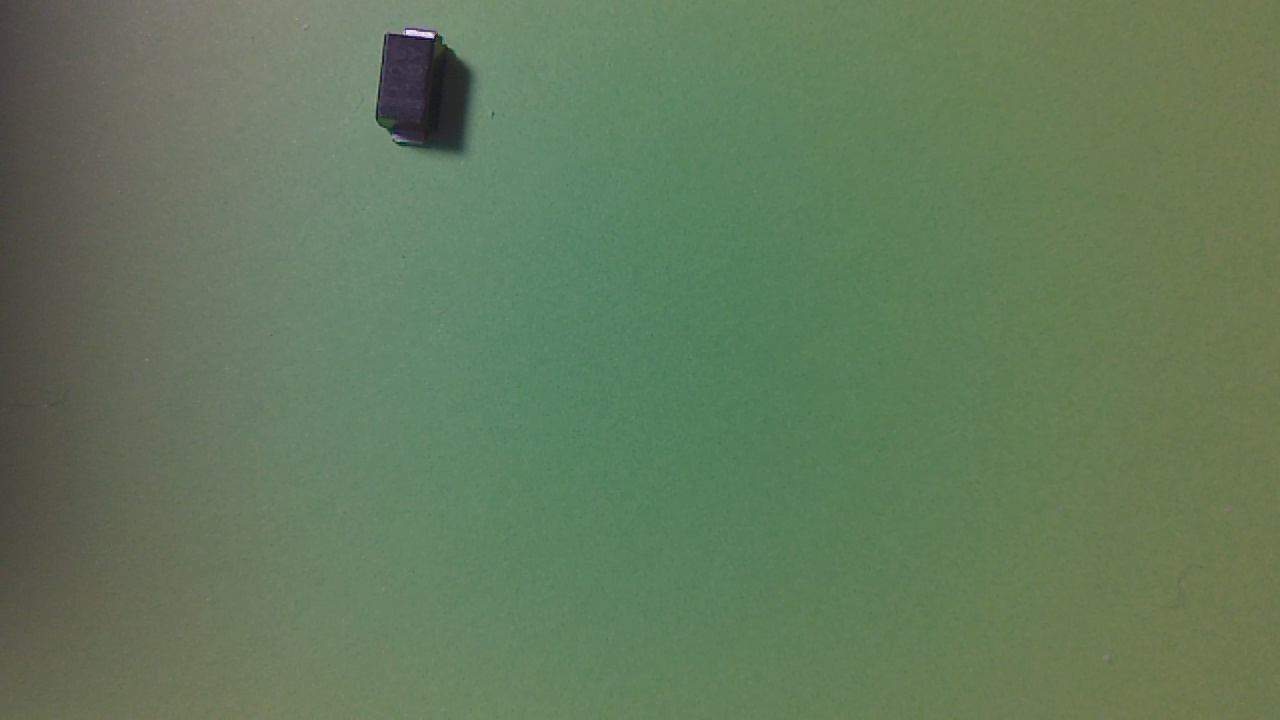Diode: (376, 30, 458, 156)
